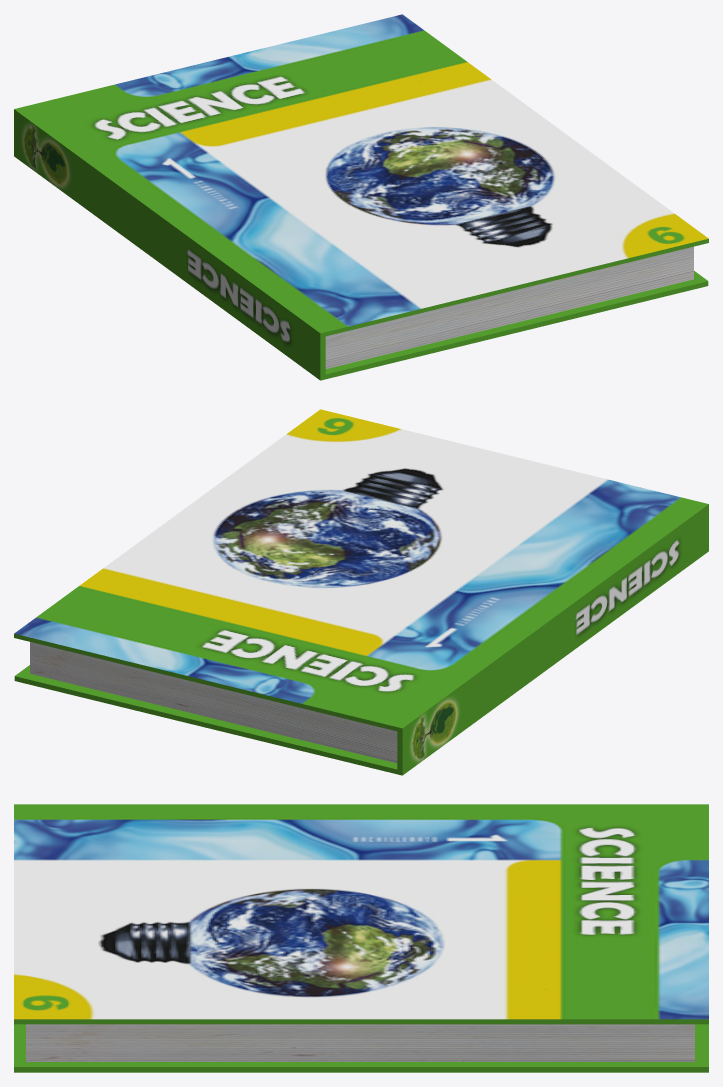
Rendered from Book 3.FBX.
3 views of the same model, one above another, from view 1: azimuth 30°, elevation 25°; view 2: azimuth 150°, elevation 25°; view 3: azimuth 270°, elevation 25° (orthographic). The views are drawn at different scales.
Parts seen in each view (by area): view 1: Book 3; view 2: Book 3; view 3: Book 3.
Boxes of the visible parts, x1,y1,x2,y2 form: Book 3: (14, 14, 708, 380); Book 3: (14, 409, 708, 775); Book 3: (14, 804, 708, 1072).
Bounding box in the file's own units: 18.48 × 2.15 × 25.25.
1 material, 1 textured.
